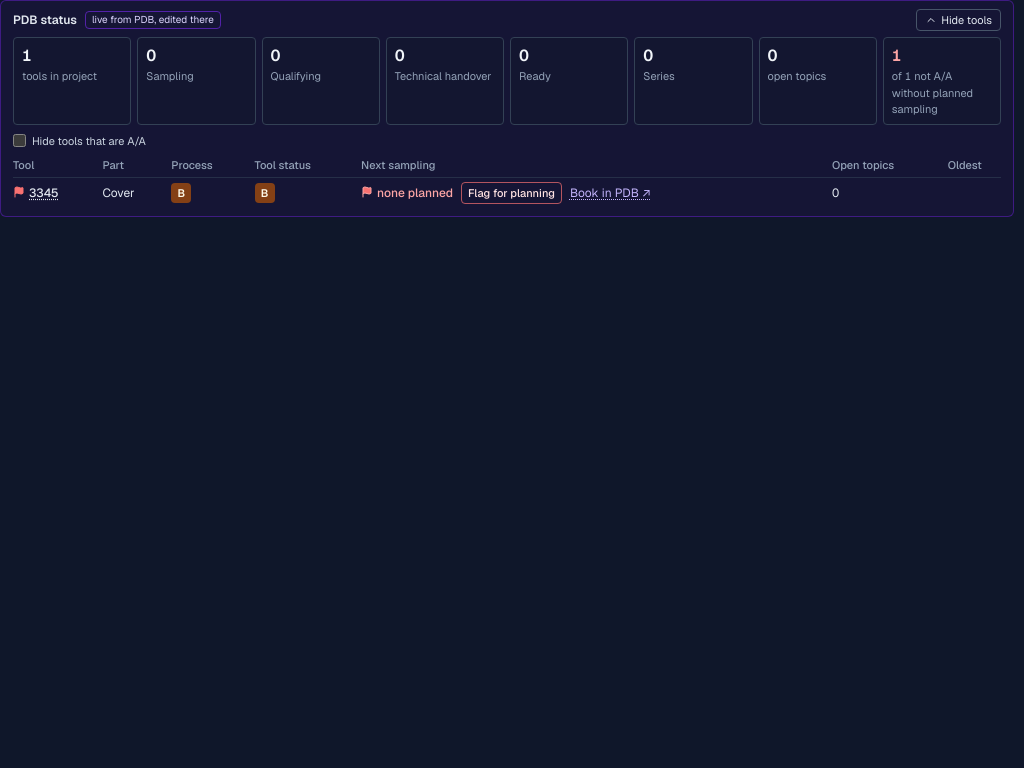
Test case: PdbStatusBox › the PM flags a tool without a sampling date: a request goes to PDB
Click the button with test id "pdb-request-sampling": (511, 193) left=461, top=182, right=562, bottom=204
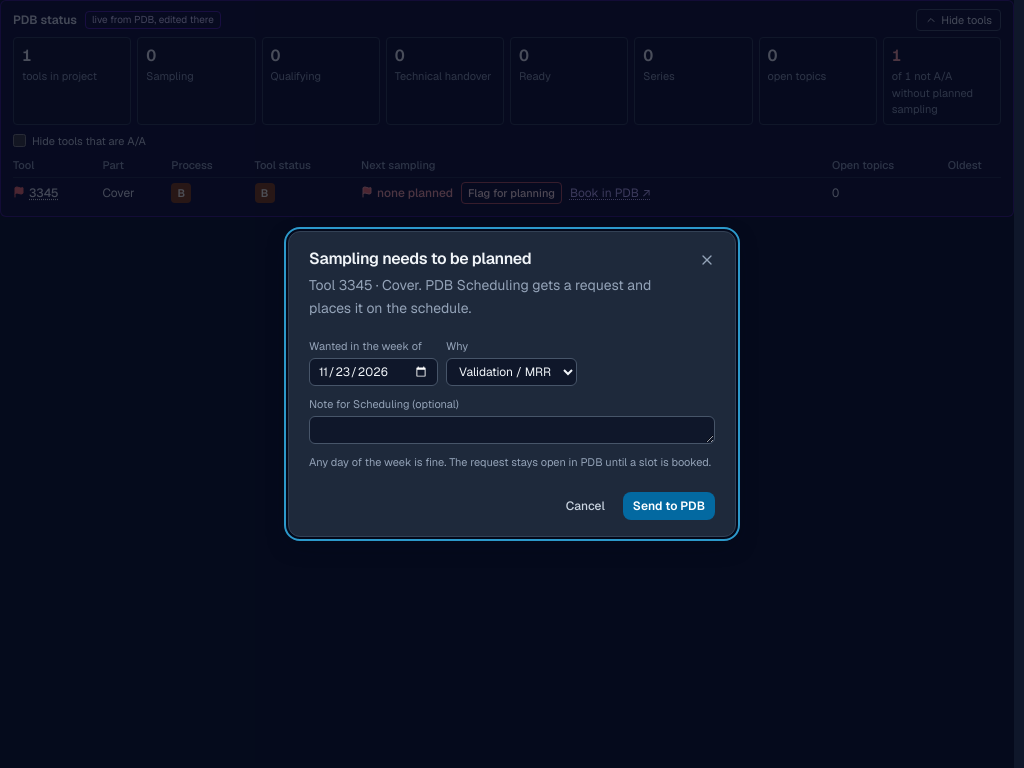
Check: the dialog with test id "pdb-request-dialog" shows "Tool 3345", box left=309, top=276, right=651, bottom=317
In the date field labelled "Wanted in the week of": (374, 372) left=309, top=358, right=438, bottom=386, type "2099-01-07"
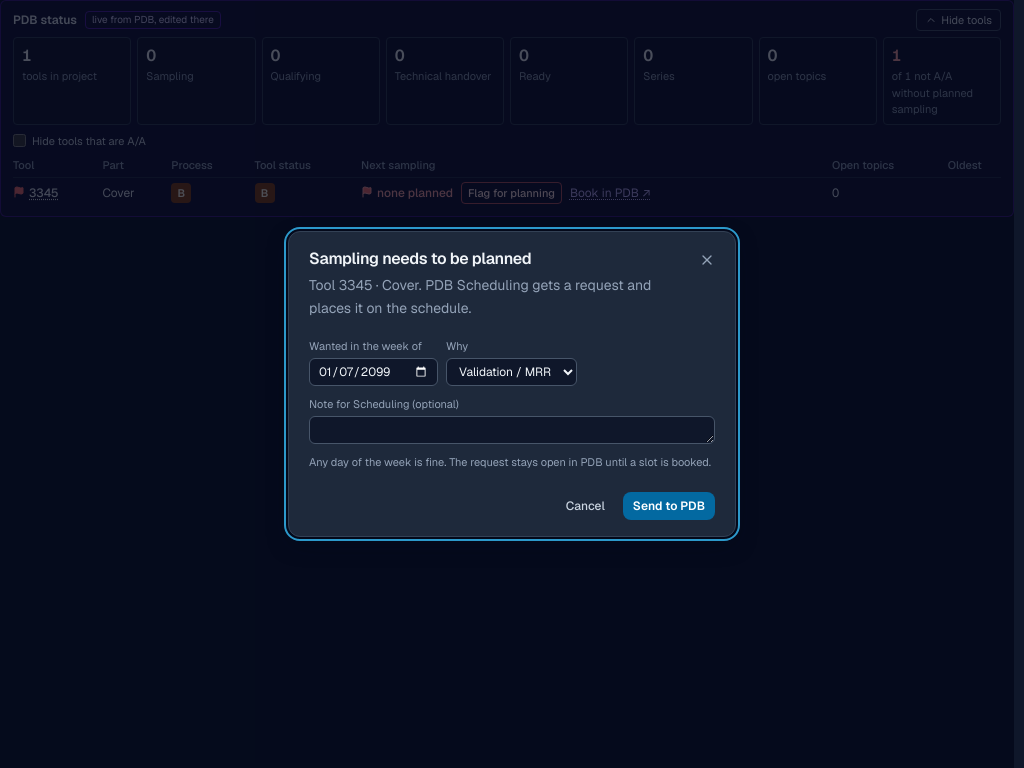
Click the button with test id "pdb-request-send": (669, 506) left=623, top=492, right=715, bottom=520
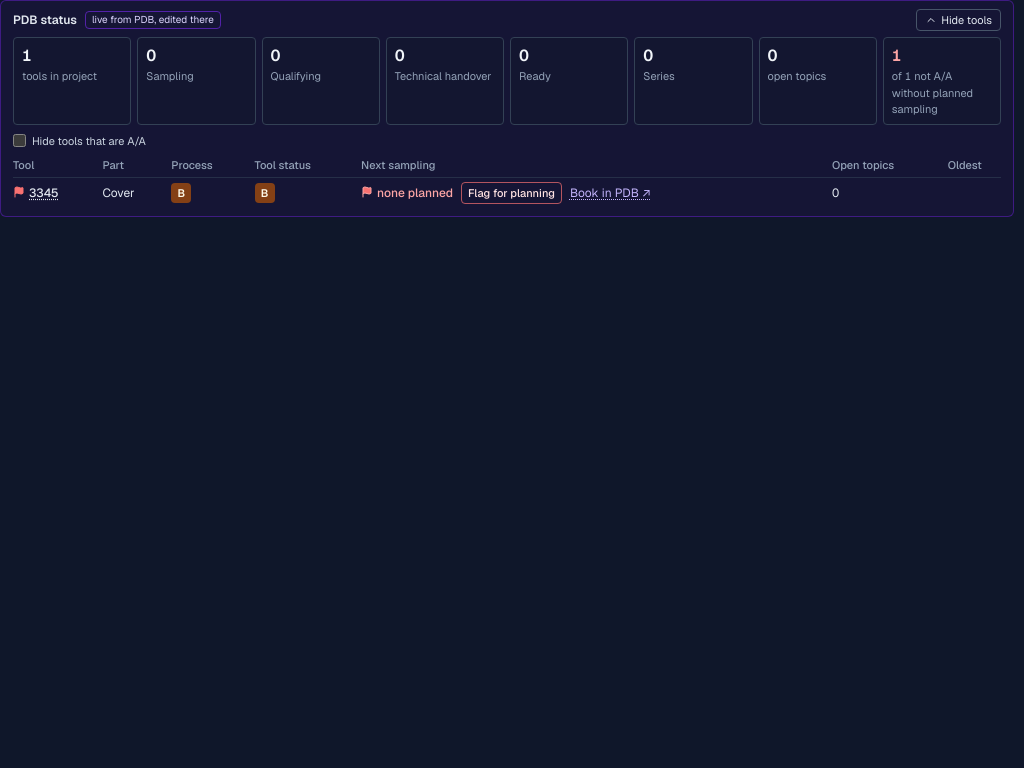
Check: the dialog with test id "pdb-request-dialog" is gone
